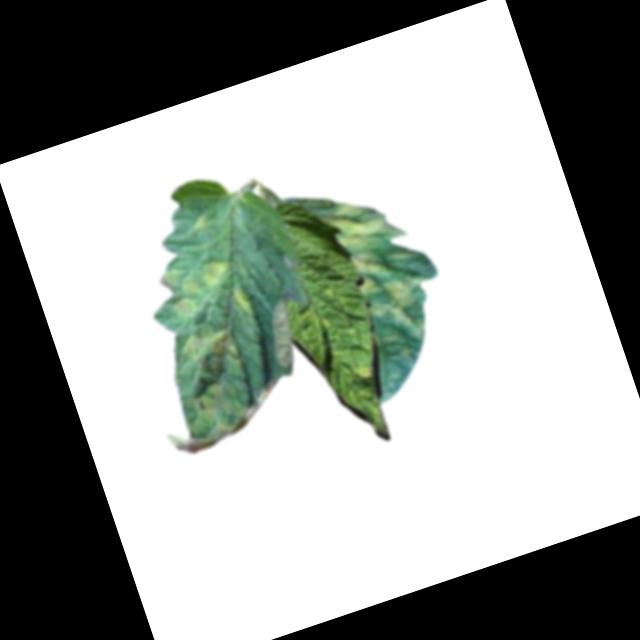Leaf_Mold: (138, 247, 286, 437), (324, 185, 438, 353), (344, 362, 377, 393)
